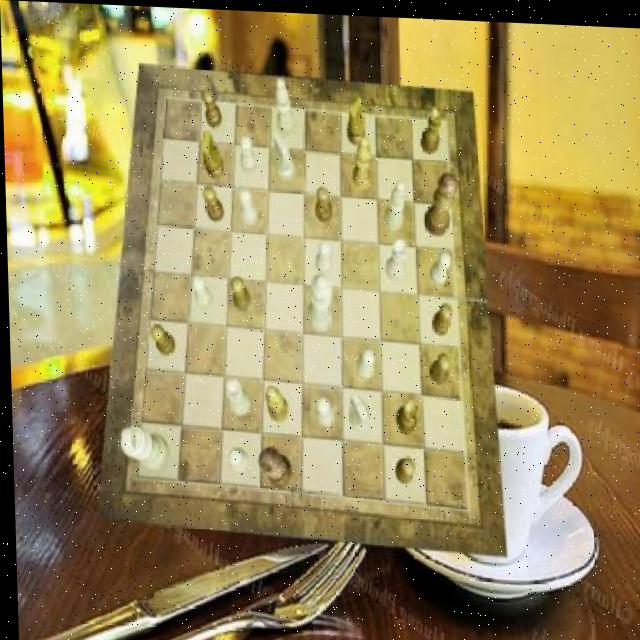bishop: (350, 131, 370, 186), (263, 384, 287, 421)
black-bishop: (256, 446, 290, 487)
black-king: (200, 130, 224, 177), (346, 94, 364, 143)
black-knight: (148, 323, 173, 356), (427, 348, 449, 382), (201, 184, 222, 219), (203, 87, 221, 126), (229, 275, 249, 310), (430, 298, 450, 332), (313, 183, 331, 220), (392, 454, 412, 482)
black-pawn: (420, 169, 457, 234)
black-queen: (418, 104, 443, 152), (392, 395, 416, 430)
black-rook: (382, 176, 405, 228), (275, 76, 295, 132)
white-bishop: (118, 424, 166, 469)
white-king: (272, 130, 293, 178), (346, 389, 368, 430)
white-knight: (428, 247, 451, 282), (189, 274, 210, 309), (237, 187, 256, 223), (239, 133, 256, 171), (313, 237, 331, 272), (313, 392, 331, 424), (355, 346, 373, 377), (224, 446, 245, 472)
white-pawn: (305, 270, 331, 331)
white-queen: (382, 234, 406, 278), (222, 377, 248, 414)
